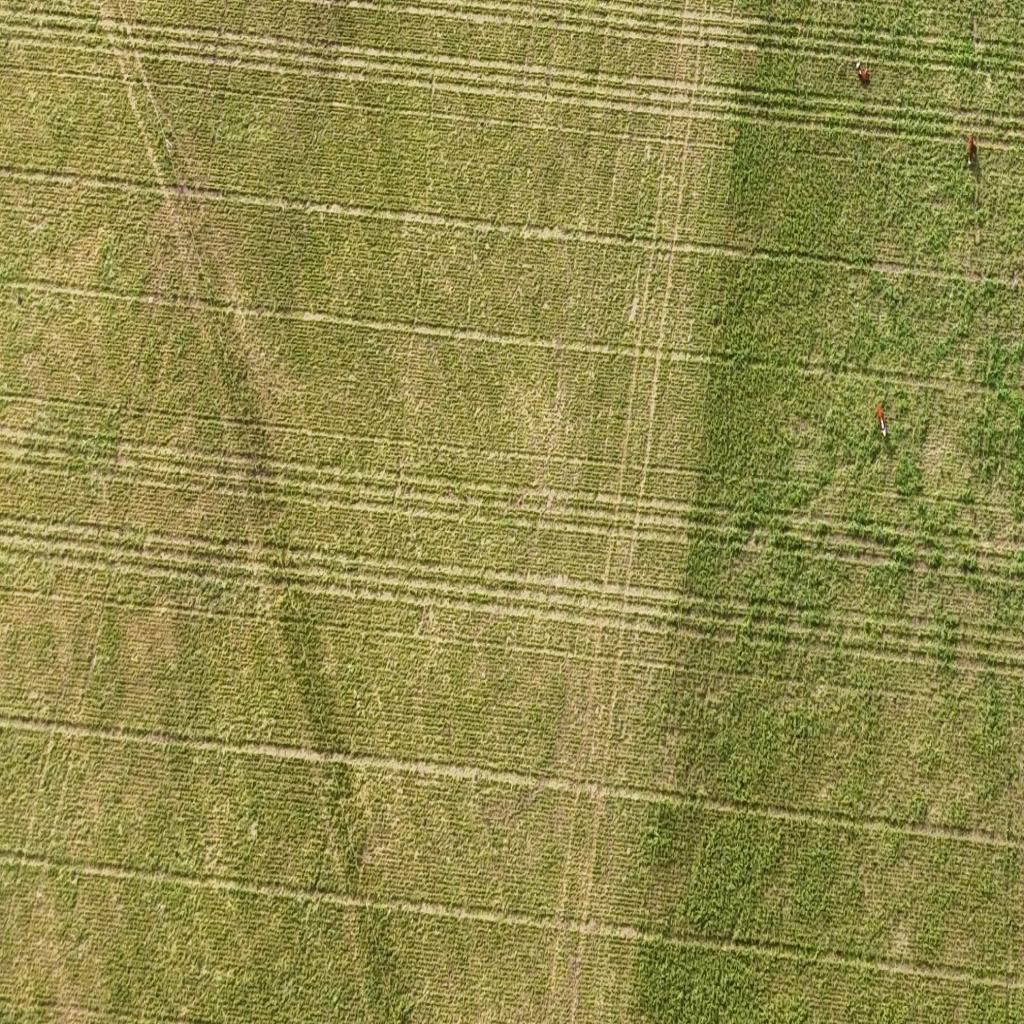cow: (874, 398, 890, 441), (854, 56, 870, 81), (966, 134, 978, 166)
